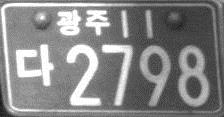1: (119, 7, 131, 39), (143, 9, 156, 38)
2: (65, 42, 102, 106)
7: (99, 42, 135, 107)
8: (176, 44, 209, 107)
9: (137, 43, 171, 106)
광주_O: (56, 8, 112, 37)
다: (14, 42, 54, 88)
